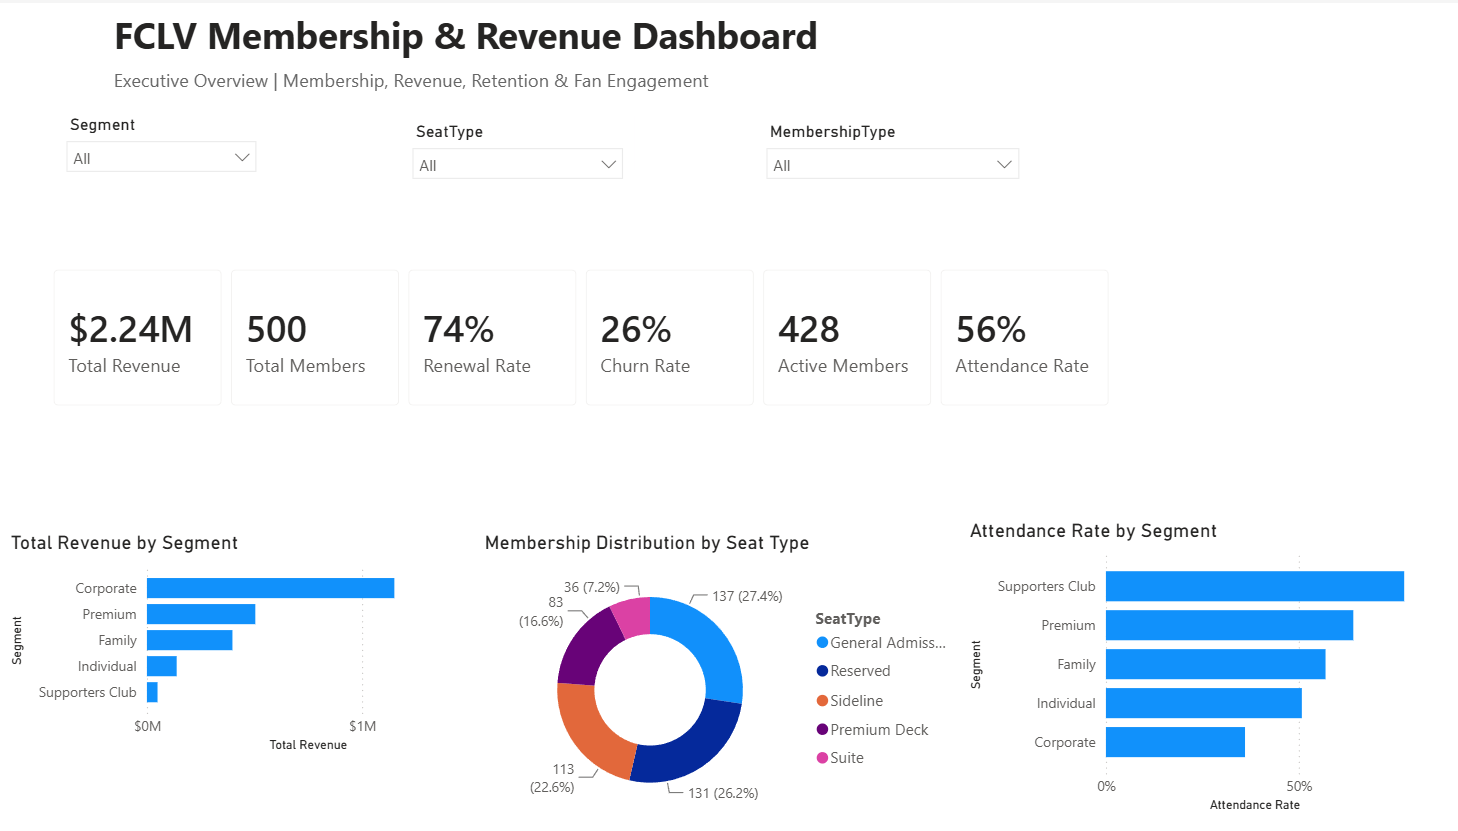

The page's visual inventory and layout, read from the dashboard file:
{"tool":"powerbi","page":{"name":"Executive Overview","canvas":[1280,720],"ordinal":0},"visuals":[{"type":"cardVisual","fields":{"Data":["Attendance.Total Revenue","Attendance.Total Members","Attendance.Renewal Rate","Attendance.Churn Rate","Attendance.Active Members","Attendance.Attendance Rate"]},"box":[32.3,215.9,960,153.4],"z":0},{"type":"clusteredBarChart","fields":{"Category":["Members.Segment"],"Y":["Attendance.Total Revenue"]},"box":[6.9,461.4,422.9,197.4],"z":1000},{"type":"donutChart","title":"Membership Distribution by Seat Type","fields":{"Category":["Members.SeatType"],"Y":["Attendance.Total Members"]},"box":[421.5,461.4,422.9,258.6],"z":1001},{"type":"textbox","box":[97,0,665.7,79.1],"z":1003},{"type":"textbox","box":[97,51.6,665.7,54.3],"z":1005},{"type":"clusteredBarChart","fields":{"Y":["Attendance.Attendance Rate"],"Category":["Members.Segment"]},"box":[844.5,450.4,401.6,260.6],"z":1008},{"type":"slicer","fields":{"Values":["Members.Segment"]},"box":[50.9,92.8,186.4,74.3],"z":1009},{"type":"slicer","fields":{"Values":["Members.SeatType"]},"box":[352.8,99,204.2,82.5],"z":1010},{"type":"slicer","fields":{"Values":["MembershipSales.MembershipType"]},"box":[662.2,99,240.7,68.1],"z":1011}]}

Visuals, with their boxes in screenshot pixels (x1, y1, x2, y2), scaled from the page's 1280x720 canvas onto the 1458x831 screenshot:
cardVisual - Attendance.Total Revenue x Attendance.Total Members: BBox(37, 249, 1130, 426)
clusteredBarChart - Members.Segment x Attendance.Total Revenue: BBox(8, 533, 490, 760)
"Membership Distribution by Seat Type" donutChart: BBox(480, 533, 962, 830)
textbox: BBox(110, 0, 869, 91)
textbox: BBox(110, 60, 869, 122)
clusteredBarChart - Attendance.Attendance Rate x Members.Segment: BBox(962, 520, 1419, 821)
slicer - Members.Segment: BBox(58, 107, 270, 193)
slicer - Members.SeatType: BBox(402, 114, 634, 209)
slicer - MembershipSales.MembershipType: BBox(754, 114, 1028, 193)
